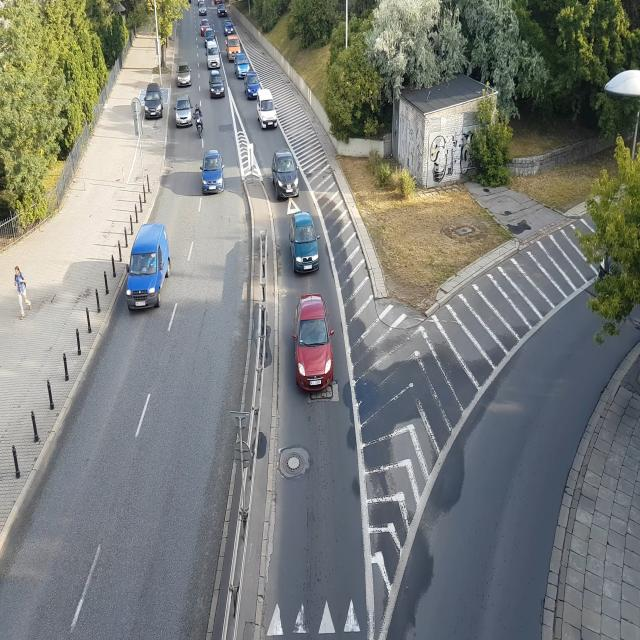car: (125, 222, 172, 312), (295, 294, 335, 395), (290, 213, 320, 275), (271, 150, 301, 199), (202, 150, 225, 196), (257, 99, 281, 131), (143, 86, 165, 120), (176, 100, 195, 129), (176, 63, 193, 86), (226, 35, 242, 57), (234, 55, 249, 75), (211, 82, 227, 98), (244, 83, 259, 100), (198, 15, 210, 32), (206, 56, 220, 68), (205, 29, 215, 45), (224, 22, 235, 34), (198, 2, 208, 15), (218, 7, 228, 17)
motorcycle: (194, 102, 205, 140)
